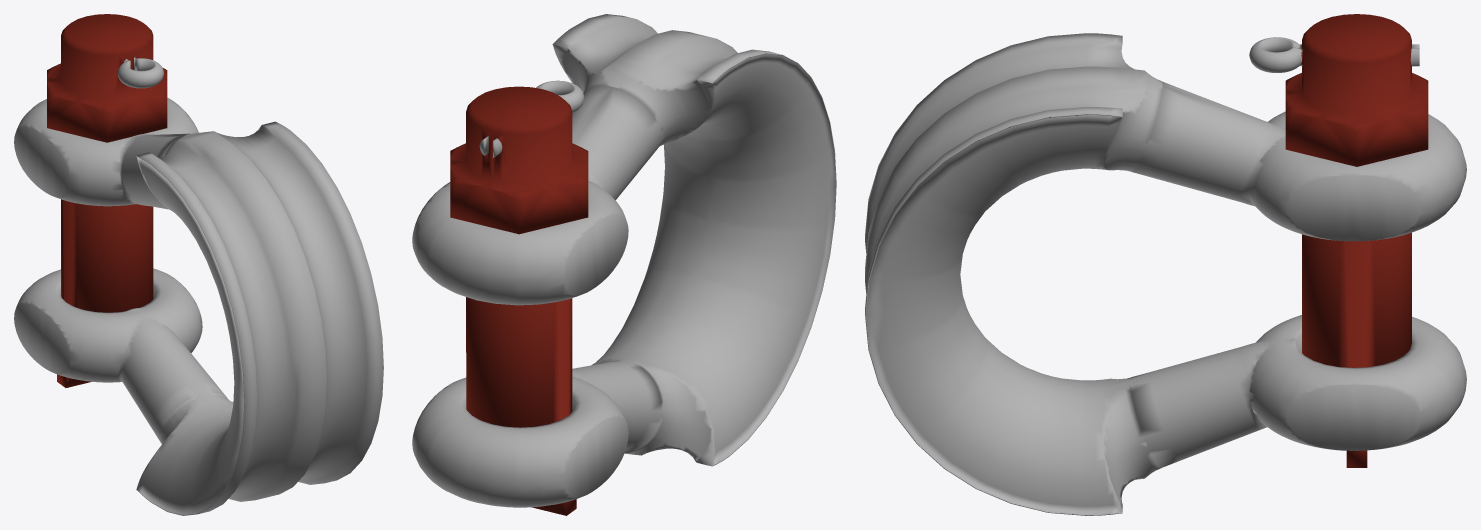
3 renders of one model, left to right at view 1: azimuth 30°, elevation 25°; view 2: azimuth 150°, elevation 25°; view 3: azimuth 270°, elevation 25°, orthographic. The views are drawn at different scales.
Parts seen in each view (by area): view 1: CB-2160_800; view 2: CB-2160_800; view 3: CB-2160_800.
Boxes of the visible parts, x1=… form: CB-2160_800: x1=14, y1=14, x2=383, y2=515; CB-2160_800: x1=412, y1=14, x2=836, y2=515; CB-2160_800: x1=865, y1=14, x2=1466, y2=515.
Bounding box in the file's own units: 0.42 × 1.07 × 1.32.
